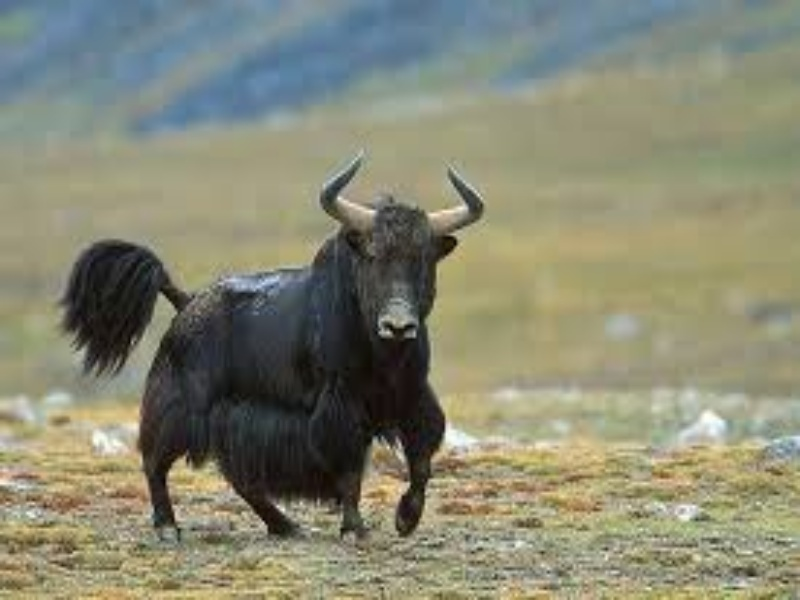buffalo: (71, 147, 481, 545)
